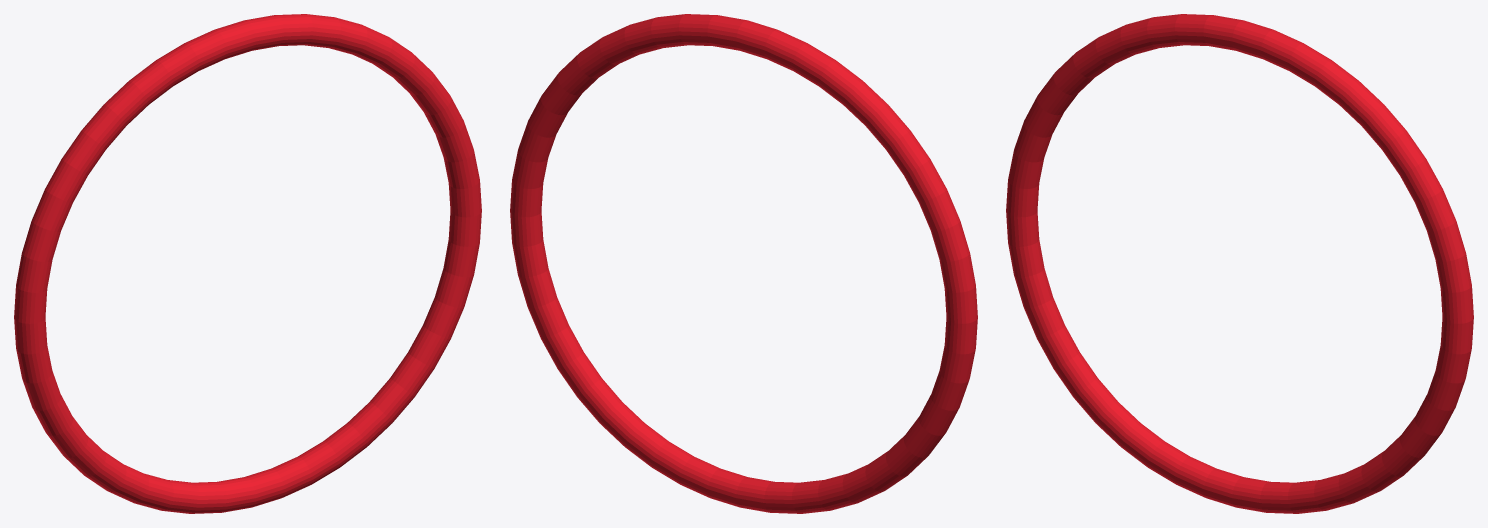
Rendered from FireTrigger.obj.
3 renders of one model, left to right at view 1: azimuth 30°, elevation 25°; view 2: azimuth 150°, elevation 25°; view 3: azimuth 330°, elevation 25°, orthographic.
Parts seen in each view (by area): view 1: obj_0; view 2: obj_0; view 3: obj_0.
Part boxes in pixels (bbox=[...]): obj_0: bbox=[14, 14, 481, 513]; obj_0: bbox=[510, 14, 977, 513]; obj_0: bbox=[1006, 14, 1473, 513].
Size of the model in its own units: 85 by 85 by 5.
